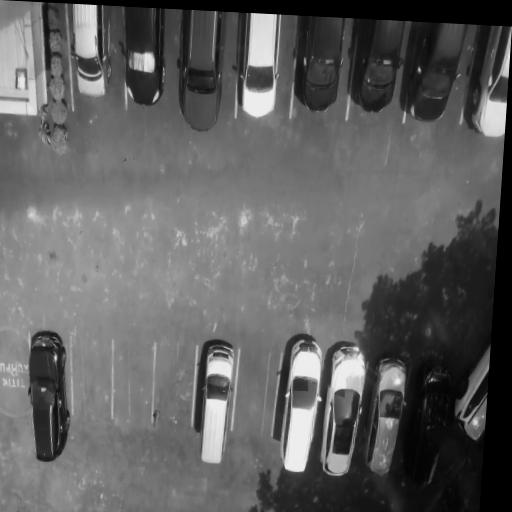Car: (398, 22, 471, 132), (22, 327, 76, 469), (274, 335, 326, 480), (176, 9, 229, 142), (319, 339, 368, 482), (190, 341, 239, 473), (288, 15, 346, 126), (406, 353, 455, 484), (458, 25, 512, 142), (349, 19, 409, 117), (63, 3, 116, 107), (365, 352, 407, 482), (236, 12, 284, 121), (124, 8, 168, 121), (450, 335, 489, 459)
Space Available: (230, 333, 278, 458), (107, 327, 157, 443), (150, 330, 196, 444), (68, 324, 113, 437), (0, 325, 32, 428)
